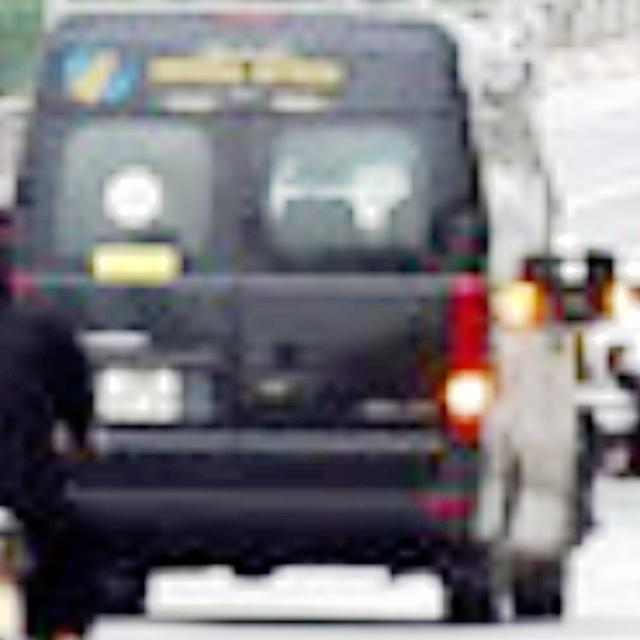Car: (7, 0, 617, 626)
